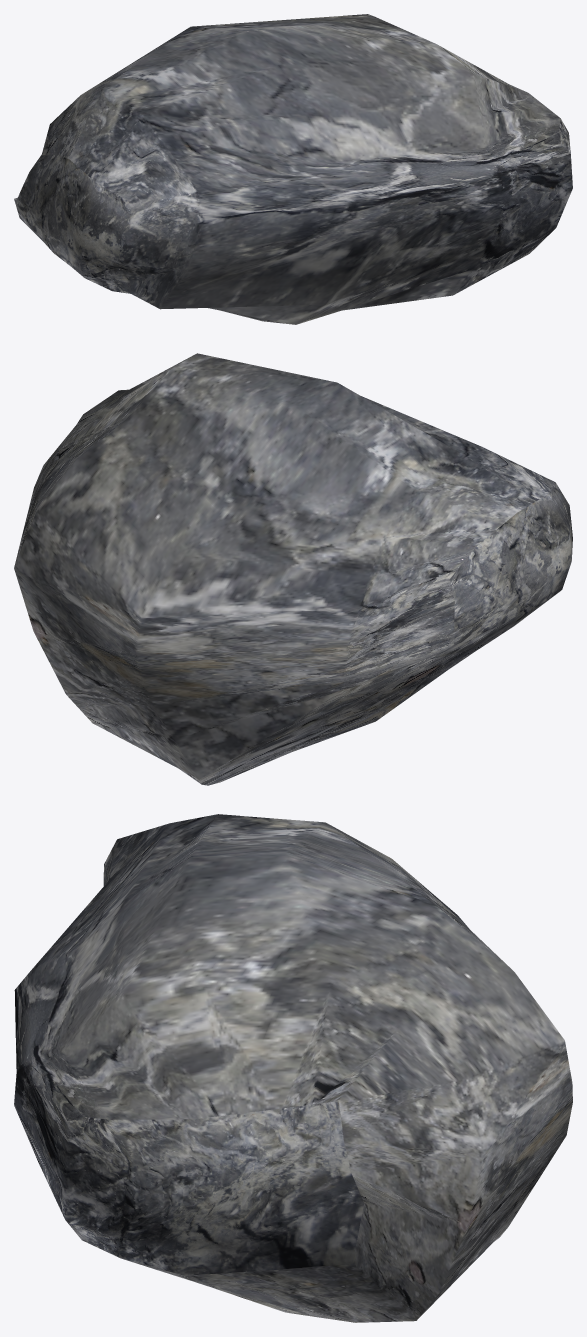
The model's file is ROCK.fbx.
3 views of the same model, one above another, from view 1: azimuth 30°, elevation 25°; view 2: azimuth 150°, elevation 25°; view 3: azimuth 270°, elevation 25° (orthographic). The views are drawn at different scales.
Parts seen in each view (by area): view 1: pCube4; view 2: pCube4; view 3: pCube4.
Boxes of the visible parts, left/top/right/bottom form: pCube4: left=14, top=14, right=572, bottom=324; pCube4: left=14, top=353, right=572, bottom=785; pCube4: left=14, top=814, right=572, bottom=1322.
Size of the model in its own units: 30.95 by 19.49 by 25.15.
